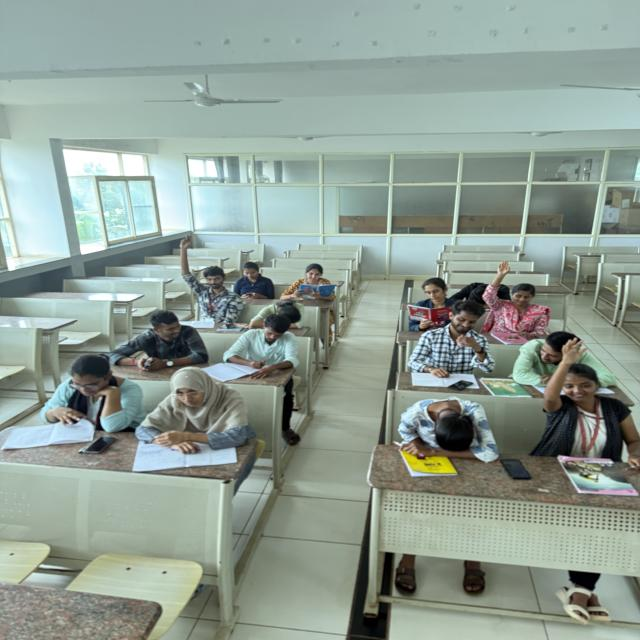Hand Rising: (540, 329, 637, 452), (480, 258, 555, 339), (174, 232, 242, 318)
Reading: (398, 276, 467, 328), (278, 260, 345, 305)
Sleeping: (395, 391, 506, 470), (506, 330, 618, 389)
Using Phone: (104, 307, 206, 370), (227, 259, 281, 301)
Writing: (210, 309, 307, 378)
